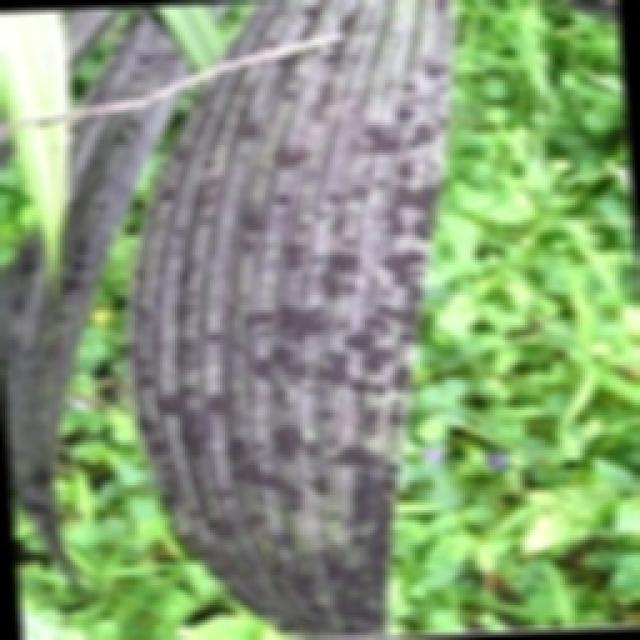Sooty Mold: (125, 0, 457, 638)
